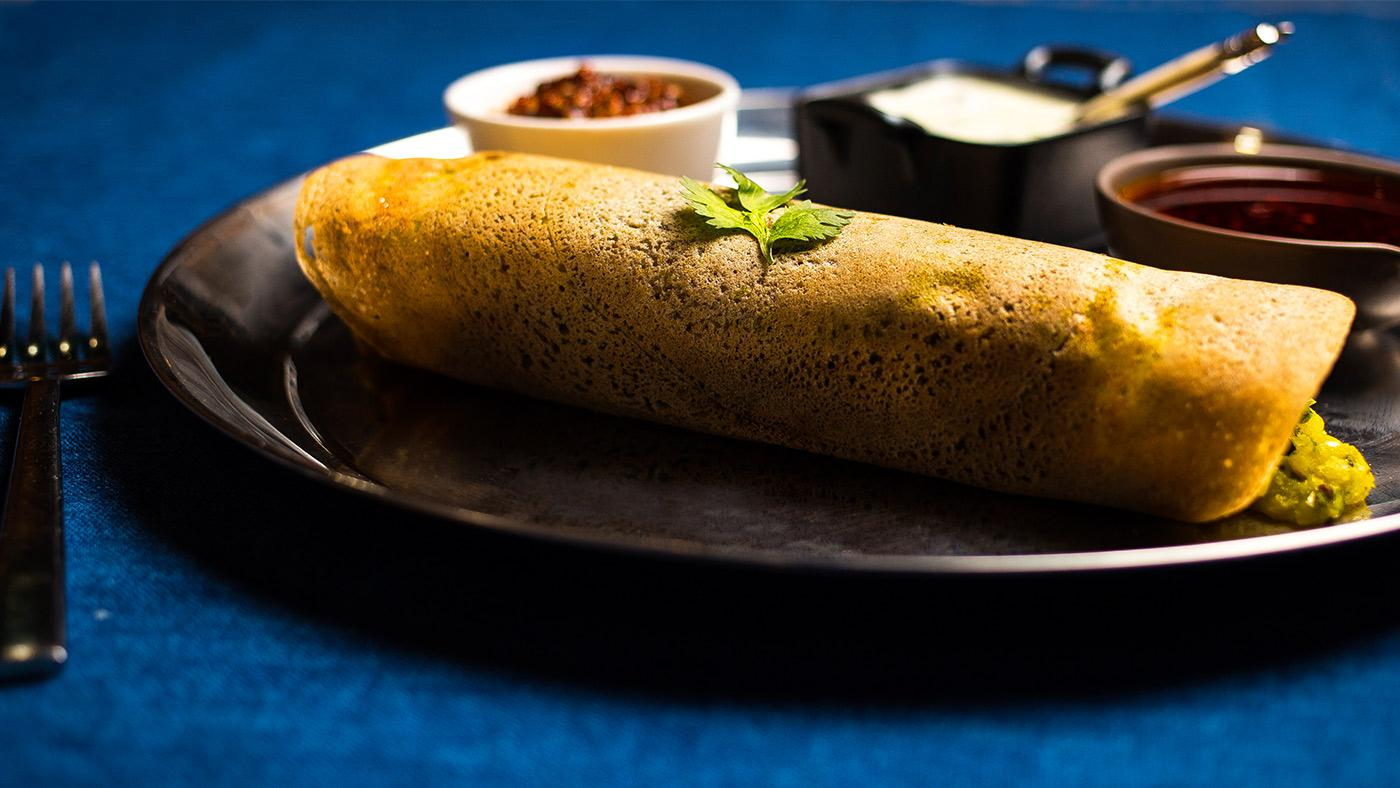dosa: (289, 151, 1365, 575)
